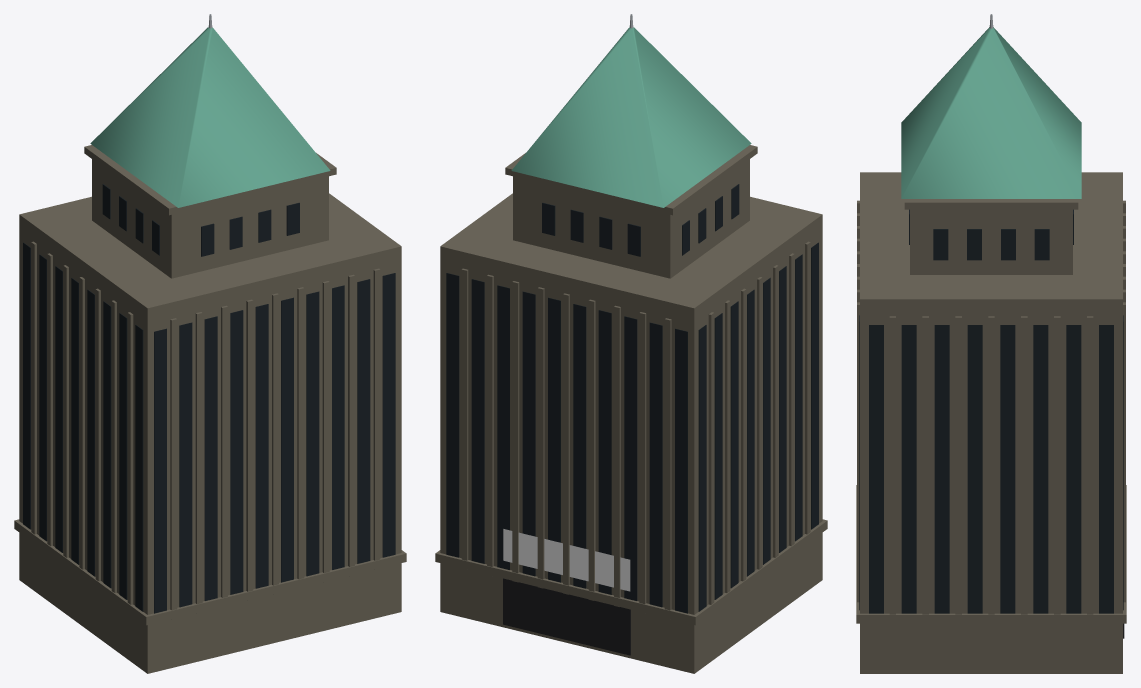
Rendered from PEACE_HOTEL.glb.
3 renders of one model, left to right at view 1: azimuth 30°, elevation 25°; view 2: azimuth 150°, elevation 25°; view 3: azimuth 270°, elevation 25°, orthographic. The views are drawn at different scales.
Visible parts, largest first — view 1: stone_0, glass_1, copper_3; view 2: stone_0, glass_1, copper_3, tread_2, citySign_5; view 3: stone_0, glass_1, copper_3.
Boxes of the visible parts, x1=… form: stone_0: x1=14, y1=145, x2=406, y2=673; glass_1: x1=23, y1=184, x2=395, y2=613; copper_3: x1=90, y1=27, x2=330, y2=207; stone_0: x1=435, y1=145, x2=827, y2=673; glass_1: x1=446, y1=184, x2=818, y2=613; copper_3: x1=511, y1=27, x2=751, y2=207; tread_2: x1=503, y1=578, x2=630, y2=655; citySign_5: x1=503, y1=529, x2=630, y2=591; stone_0: x1=856, y1=172, x2=1126, y2=673; glass_1: x1=859, y1=209, x2=1123, y2=613; copper_3: x1=901, y1=27, x2=1081, y2=198.
Bounding box in the file's own units: 16.4 × 35 × 14.4.
